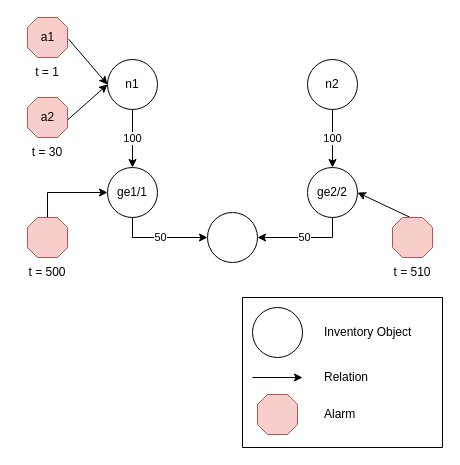
Some shapes in this 460 by 465 pixel diagram are drawn without their labels. The centre of each missing label's shape, as x and y in pixels:
"a3" goes at point (47, 237).
"a4" goes at point (412, 237).
"link" goes at point (232, 237).
